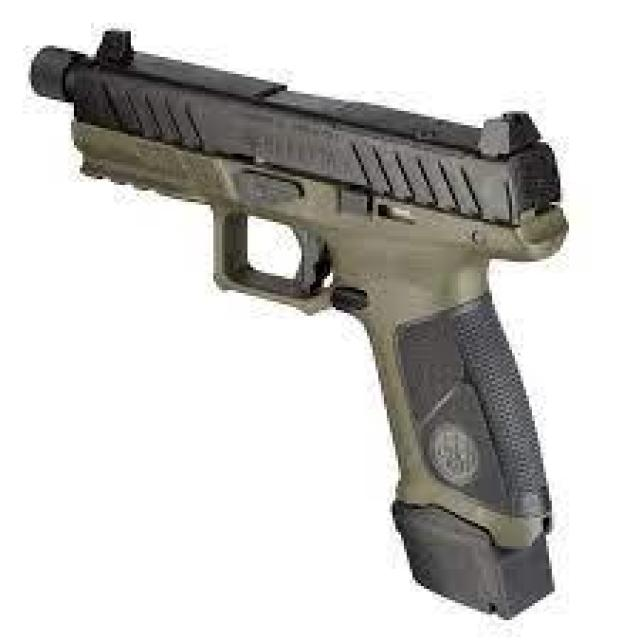gun: (28, 31, 569, 623)
